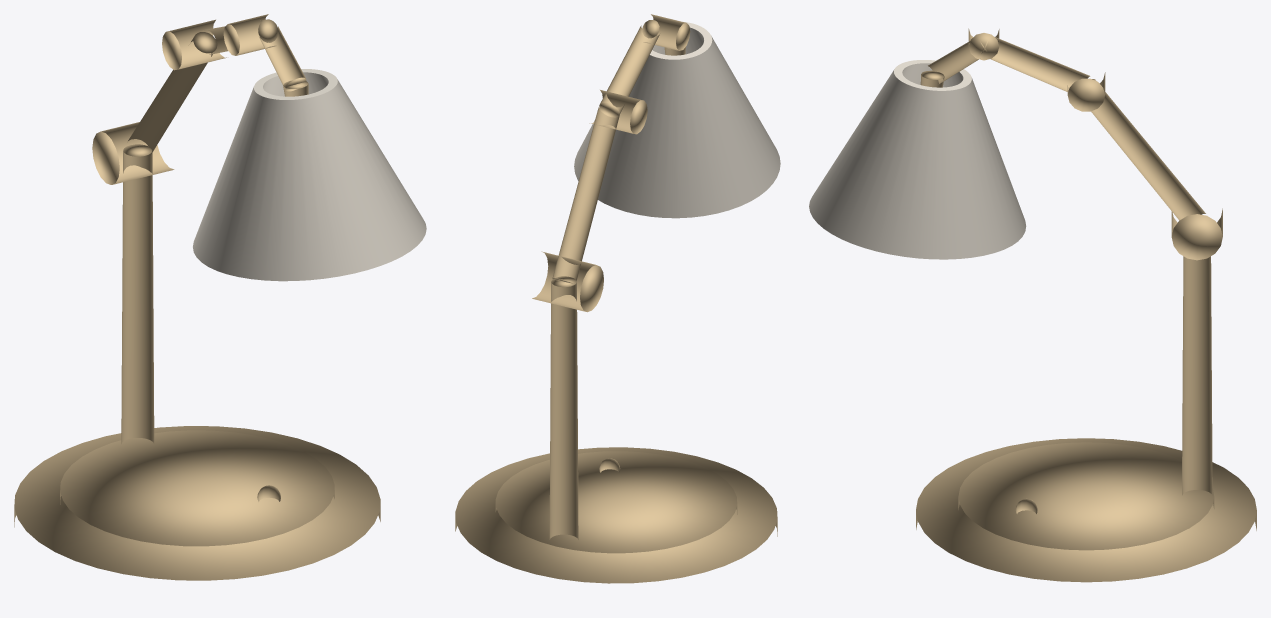
The model's file is fold-lamp.glb.
3 views of the same model, side by side, from view 1: azimuth 30°, elevation 25°; view 2: azimuth 150°, elevation 25°; view 3: azimuth 270°, elevation 25° (orthographic). The views are drawn at different scales.
Parts seen in each view (by area): view 1: base, shade; view 2: base, shade; view 3: base, shade.
Boxes of the visible parts, x1,y1,x2,y2 form: base: [14, 14, 380, 580]; shade: [193, 69, 426, 281]; base: [455, 14, 777, 583]; shade: [574, 21, 780, 218]; base: [916, 28, 1256, 582]; shade: [809, 60, 1026, 259].
Bounding box in the file's own units: 0.4 × 0.658 × 0.5253.
